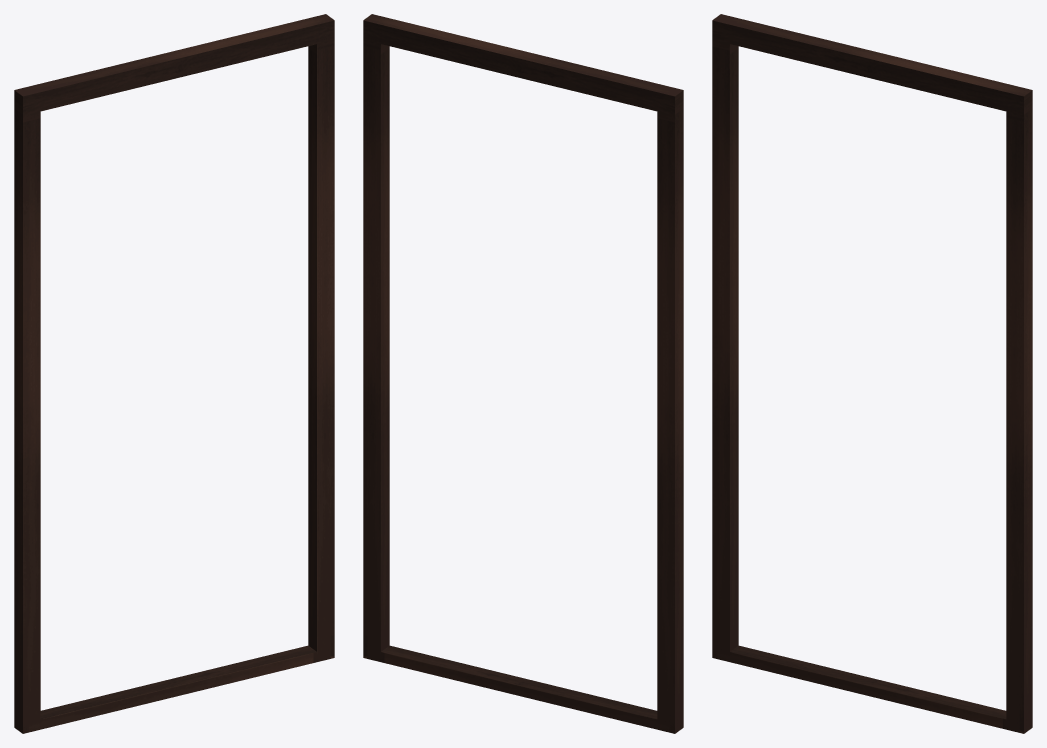
The model's file is Door03Frame.FBX.
3 views of the same model, side by side, from view 1: azimuth 30°, elevation 25°; view 2: azimuth 150°, elevation 25°; view 3: azimuth 330°, elevation 25° (orthographic).
Parts seen in each view (by area): view 1: Door03Frame; view 2: Door03Frame; view 3: Door03Frame.
Boxes of the visible parts, <box> form: Door03Frame: <box>14,14,334,733</box>; Door03Frame: <box>363,14,683,733</box>; Door03Frame: <box>712,14,1032,733</box>.
Size of the model in its own units: 44.42 by 86.76 by 2.17.
